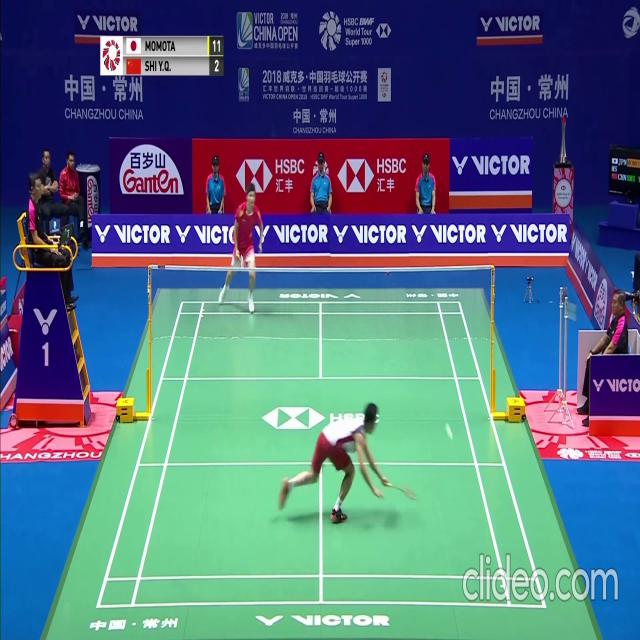Shuttlecock: (448, 432, 453, 439)
